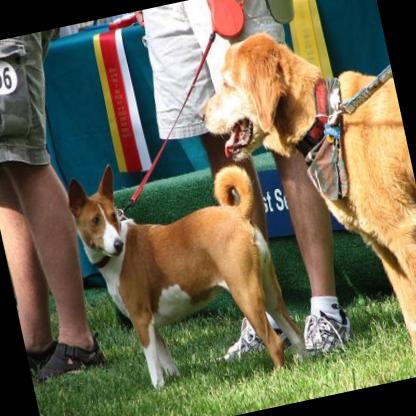basenji: (60, 131, 308, 407)
